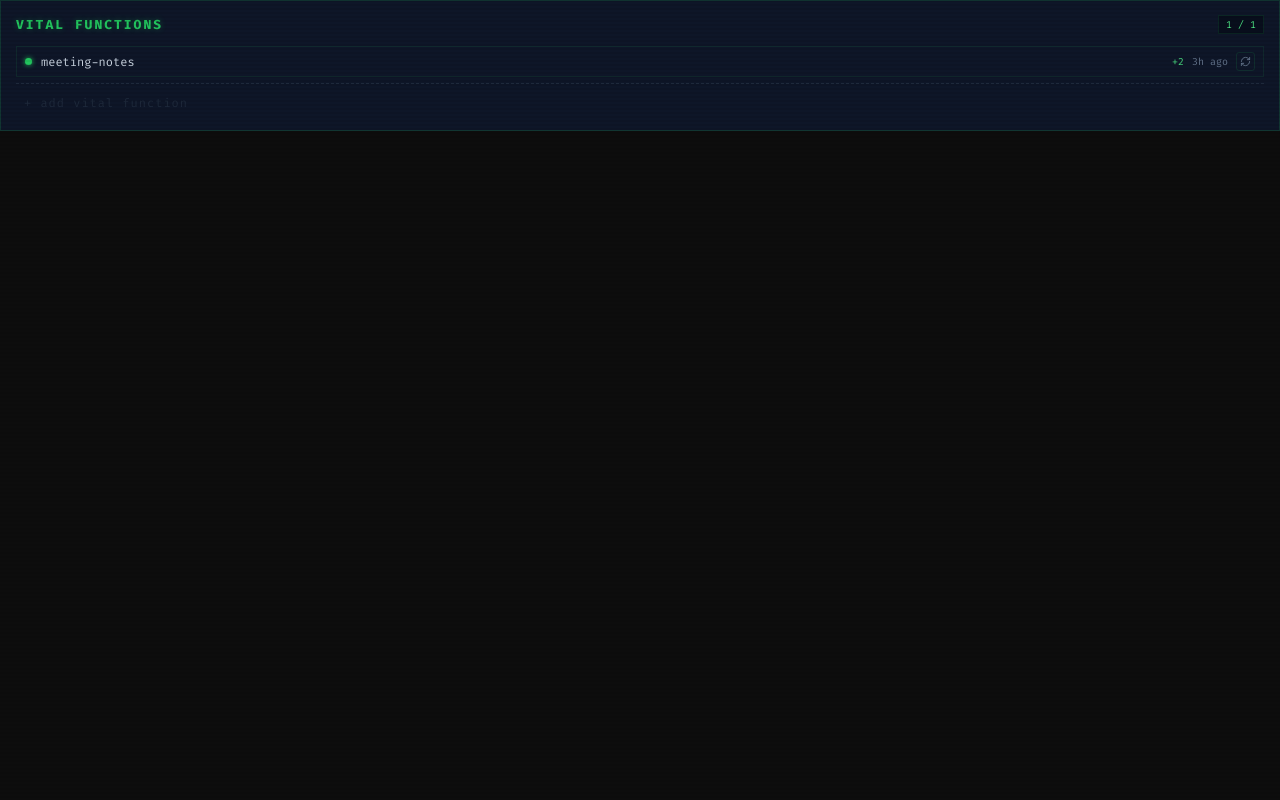
Scenario: clicking a row fetches its detail and opens the popover
Click the text "meeting-notes".
click(88, 62)  # box x1=41 y1=54 x2=135 y2=70
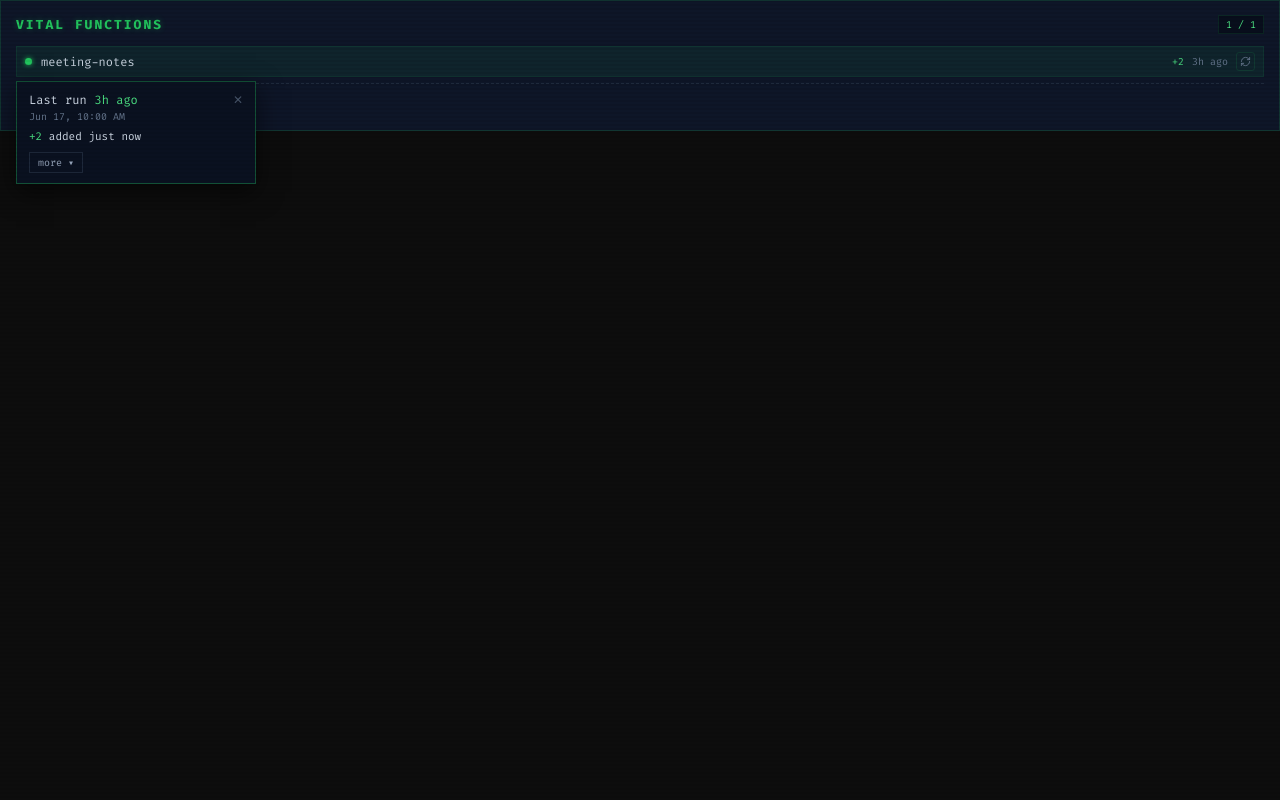
Expected: the dialog is shown, x1=16 y1=81 x2=256 y2=184
